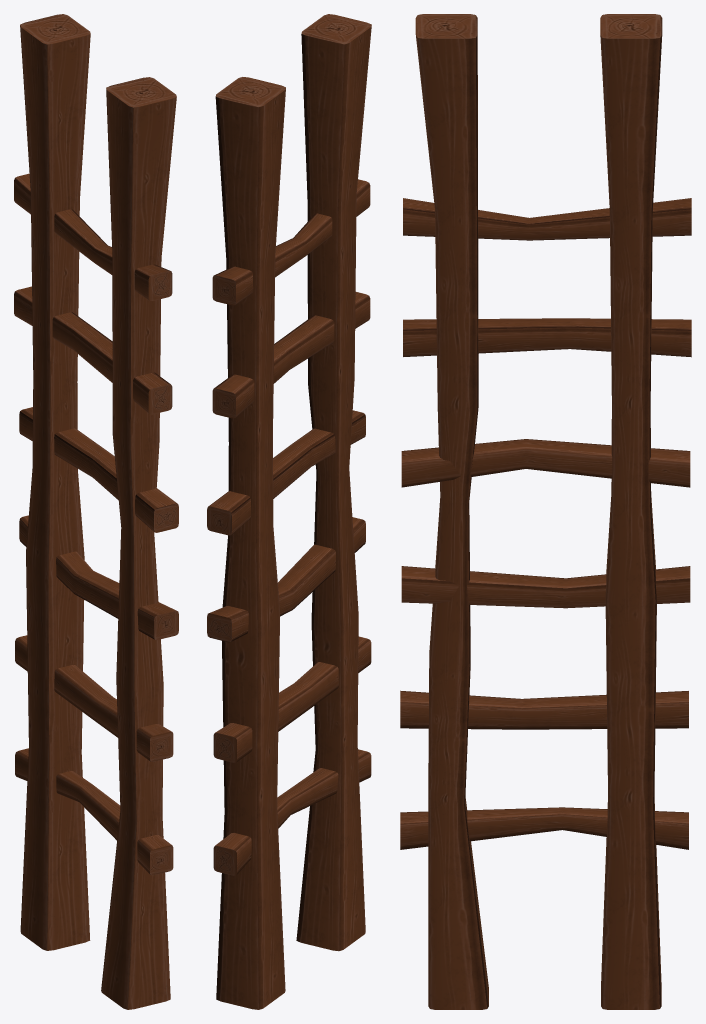
File: SM_Ladder.fbx
3 renders of one model, left to right at view 1: azimuth 30°, elevation 25°; view 2: azimuth 150°, elevation 25°; view 3: azimuth 270°, elevation 25°, orthographic. The views are drawn at different scales.
Parts seen in each view (by area): view 1: SM_Ladder_LOD0; view 2: SM_Ladder_LOD0; view 3: SM_Ladder_LOD0.
Part boxes in pixels (x1,y1,x2,y2): SM_Ladder_LOD0: (14, 14, 178, 1009); SM_Ladder_LOD0: (207, 14, 371, 1009); SM_Ladder_LOD0: (400, 14, 691, 1009).
Size of the model in its own units: 40.53 by 201 by 741.
Materials: 1 (1 with a texture image).
